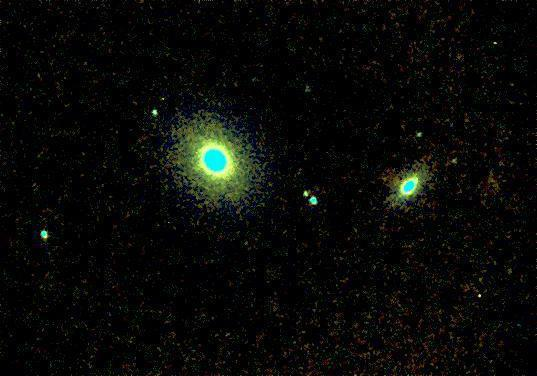star: (153, 210, 183, 240)
